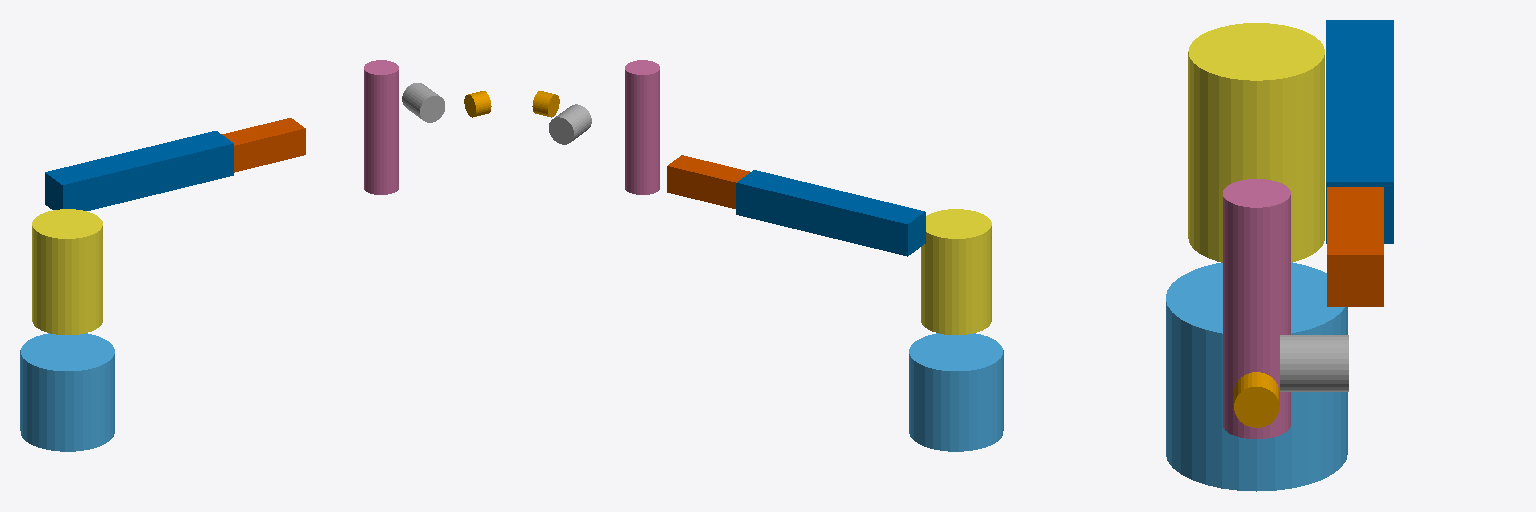
The robot description file, URDF, robot "kr6_r700_2":
<robot name="kr6_r700_2">
  
  <link name="base" />
  <link name="base_link">
    <collision>
      <geometry>
        <cylinder length="0.15" radius="0.08"/>
      </geometry>
      <origin rpy="0.0 -0.0 0.0" xyz="0.0 0.0 0.075" />
    </collision>
    <inertial>
      <inertia ixx="0.16209200415615" ixy="0.0" ixz="0.0" iyy="0.10881181598555635" iyz="0.0" izz="0.18461591505869543" />
      <mass value="1.6916E1" />
      <origin rpy="1.6165592773339865 -1.221289277333065 3.10031147437779" xyz="-0.03713348309292976 2.6602033577676952E-5 0.10863850792149446" />
    </inertial>
    <visual>
      <geometry>
        <cylinder length="0.15" radius="0.08"/>
      </geometry>
      <origin rpy="0.0 -0.0 0.0" xyz="0.0 0.0 0.075" />
    </visual>
  </link>
  <link name="flange" />
  <link name="link_1">
    <collision>
      <geometry>
        <cylinder length="0.18" radius="0.06"/>
      </geometry>
      <origin rpy="0 0 0" xyz="0.0 0.0 -0.09" />
    </collision>
    <inertial>
      <inertia ixx="0.07406183855390856" ixy="0.0" ixz="0.0" iyy="0.0890478351825312" iyz="0.0" izz="0.11039570662759428" />
      <mass value="8.416E0" />
      <origin rpy="1.304519343134156 -0.9428616016893944 -1.4226510948637578" xyz="0.00641040874524715 -0.016268053707224336 -0.1065889377376426" />
    </inertial>
    <visual>
      <geometry>
        <cylinder length="0.18" radius="0.06"/>
      </geometry>
      <origin rpy="0 0 0" xyz="0.0 0.0 -0.09" />
    </visual>
  </link>
  <link name="link_2">
    <collision>
      <geometry>
        <box size="0.335 0.06 0.06"/>
      </geometry>
      <origin rpy="0 0 0" xyz="0.1675 0.0 0.0" />
    </collision>
    <inertial>
      <inertia ixx="0.2791393962851823" ixy="0.0" ixz="0.0" iyy="0.0812068241212874" iyz="0.0" izz="0.3188594096256082" />
      <mass value="1.55659E1" />
      <origin rpy="-1.3903732489969955 -1.5149954424356888 -0.19980852830399726" xyz="0.0968897140544395 -0.004085391785890956 -0.07157586711979391" />
    </inertial>
    <visual>
      <geometry>
        <box size="0.335 0.06 0.06"/>
      </geometry>
      <origin rpy="0 0 0" xyz="0.1675 0.0 0.0" />
    </visual>
  </link>
  <link name="link_3">
    <collision>
      <geometry>
        <box size="0.141 0.05 0.05"/>
      </geometry>
      <origin rpy="0 0 0" xyz="0.07 0.0 0.0" />
    </collision>
    <inertial>
      <inertia ixx="0.016743444555446366" ixy="0.0" ixz="0.0" iyy="0.02548253701645681" iyz="0.0" izz="0.02822390996140249" />
      <mass value="5.303E0" />
      <origin rpy="2.358120324062734 -0.2189419917733543 -3.0042851780780877" xyz="0.022228738449934005 -0.011136149349424855 -0.06927623986422782" />
    </inertial>
    <visual>
      <geometry>
        <box size="0.141 0.05 0.05"/>
      </geometry>
      <origin rpy="0 0 0" xyz="0.07 0.0 0.0" />
    </visual>
  </link>
  <link name="link_4">
    <collision>
      <geometry>
        <cylinder length="0.224" radius="0.03"/>
      </geometry>
      <origin rpy="0 1.5707963 0" xyz="0.0 0.0 -0.112" />
    </collision>
    <inertial>
      <inertia ixx="0.01053127278723183" ixy="0.0" ixz="0.0" iyy="0.03425565311920861" iyz="0.0" izz="0.03735903294944075" />
      <mass value="4.6129999999999995E0" />
      <origin rpy="-2.0540104905408416 -1.5266176566842766 2.01813464445371" xyz="1.0969000650336042E-4 0.010267591588987646 -0.09163862995881207" />
    </inertial>
    <visual>
      <geometry>
        <cylinder length="0.224" radius="0.03"/>
      </geometry>
      <origin rpy="0 1.5707963 0" xyz="0.0 0.0 -0.112" />
    </visual>
  </link>
  <link name="link_5">
    <collision>
      <geometry>
        <cylinder length="0.06" radius="0.025"/>
      </geometry>
      <origin rpy="0 0 0" xyz="0.0 0.0 0.0" />
    </collision>
    <inertial>
      <inertia ixx="0.0017317756133102902" ixy="0.0" ixz="0.0" iyy="0.0022195008054406813" iyz="0.0" izz="0.002467090055442976" />
      <mass value="1.6128E0" />
      <origin rpy="1.567898714902773 -0.8611716764868312 -3.100280255900494" xyz="0.009320696924603175 7.83482142857143E-4 -0.026462549603174602" />
    </inertial>
    <visual>
      <geometry>
        <cylinder length="0.06" radius="0.025"/>
      </geometry>
      <origin rpy="0 0 0" xyz="0.0 0.0 0.0" />
    </visual>
  </link>
  <link name="link_6">
    <collision>
      <geometry>
        <cylinder length="0.03" radius="0.02"/>
      </geometry>
      <origin rpy="0 0 0" xyz="0.0 0.0 -0.015" />
    </collision>
    <inertial>
      <inertia ixx="1.83698267603013E-4" ixy="0.0" ixz="0.0" iyy="1.8213621766783165E-4" iyz="0.0" izz="2.9589000000000004E-4" />
      <mass value="7.34E-1" />
      <origin rpy="0.0 -0.0 1.2234271886965395" xyz="0.0 0.0 -0.011764604904632152" />
    </inertial>
    <visual>
      <geometry>
        <cylinder length="0.03" radius="0.02"/>
      </geometry>
      <origin rpy="0 0 0" xyz="0.0 0.0 -0.015" />
    </visual>
  </link>
  <link name="tool0" />
  <link name="world" />
  <joint name="base_link-base" type="fixed">
    <child link="base" />
    <parent link="base_link" />
  <origin xyz="0 0 0" rpy="0 0 0" /></joint>
  <joint name="joint_1" type="revolute">
    <axis xyz="0.0 0.0 1.0" />
    <child link="link_1" />
    <limit effort="1.86E2" lower="-2.967059725E0" upper="2.967059725E0" velocity="6.2831853071795862E0" />
    <origin rpy="3.141592653589793 -0.0 0.0" xyz="0.0 0.0 0.20800000000000002" />
    <parent link="base_link" />
  </joint>
  <joint name="joint_2" type="revolute">
    <axis xyz="0.0 0.0 1.0" />
    <child link="link_2" />
    <limit effort="1.6893729997505432E2" lower="-3.316125575E0" upper="7.853981625E-1" velocity="5.2359877559829888E0" />
    <origin rpy="1.5707963267948966 -0.0 0.0" xyz="0.025 -0.0907 -0.192" />
    <parent link="link_1" />
  </joint>
  <joint name="joint_3" type="revolute">
    <axis xyz="0.0 0.0 1.0" />
    <child link="link_3" />
    <limit effort="8.1493186258254326E1" lower="-2.0943951E0" upper="2.72271363E0" velocity="6.2831853071795862E0" />
    <origin rpy="0.0 -0.0 0.0" xyz="0.335 0.0 -0.004200000000000001" />
    <parent link="link_2" />
  </joint>
  <joint name="joint_4" type="revolute">
    <axis xyz="0.0 0.0 1.0" />
    <child link="link_4" />
    <limit effort="4.8879867848304357E1" lower="-3.2288591125E0" upper="3.2288591125E0" velocity="7.8539816339744828E0" />
    <origin rpy="1.5707963267948966 -0.0 -1.5707963267948966" xyz="0.14100000000000001 -0.025 -0.08650000000000001" />
    <parent link="link_3" />
  </joint>
  <joint name="joint_5" type="revolute">
    <axis xyz="0.0 0.0 1.0" />
    <child link="link_5" />
    <limit effort="4.0135638235238289E1" lower="-2.0943951E0" upper="2.0943951E0" velocity="7.8539816339744828E0" />
    <origin rpy="0.0 1.5707963267948966 1.5707963267948966" xyz="0.0 0.0505 -0.224" />
    <parent link="link_4" />
  </joint>
  <joint name="joint_6" type="revolute">
    <axis xyz="0.0 0.0 1.0" />
    <child link="link_6" />
    <limit effort="2.7358196129032258E1" lower="-6.108652375E0" upper="6.108652375E0" velocity="9.42477796076938E0" />
    <origin rpy="1.5707963267948966 -0.0 -1.5707963267948966" xyz="0.0615 0.0 -0.0505" />
    <parent link="link_5" />
  </joint>
  <joint name="link6-flange" type="fixed">
    <child link="flange" />
    <origin rpy="0.0 1.5707963267948966 0.0" xyz="0.0 0.0 -0.0285" />
    <parent link="link_6" />
  </joint>
  <joint name="link6-tool0" type="fixed">
    <child link="tool0" />
    <origin rpy="3.141592653589793 1.2246467991473532E-16 3.141592653589793" xyz="0.0 0.0 -0.0285" />
    <parent link="link_6" />
  </joint>
  <joint name="world-base_link" type="fixed">
    <child link="base_link" />
    <parent link="world" />
    <origin rpy="0 0 0" xyz="0 0 0" />
  </joint>
</robot>

--- Render facts (derived) ---
3 views of the same robot in one strip: view 1: azimuth 30°, elevation 25°; view 2: azimuth 150°, elevation 25°; view 3: azimuth 270°, elevation 25° (orthographic).
Robot: kr6_r700_2 — 11 links, 10 joints (6 revolute, 4 fixed); root link world; default pose: all joints at 0.
Visible links, largest first — view 1: base_link, link_2, link_1, link_4, link_3, link_5, link_6; view 2: base_link, link_2, link_1, link_4, link_3, link_5, link_6; view 3: link_1, base_link, link_4, link_2, link_3, link_5, link_6.
Boxes of the visible links, bbox=[...] form: base_link: bbox=[20, 333, 114, 451]; link_2: bbox=[45, 131, 233, 210]; link_1: bbox=[32, 209, 102, 334]; link_4: bbox=[364, 60, 398, 194]; link_3: bbox=[222, 118, 305, 172]; link_5: bbox=[402, 83, 444, 122]; link_6: bbox=[464, 91, 491, 117]; base_link: bbox=[909, 333, 1003, 451]; link_2: bbox=[736, 170, 925, 256]; link_1: bbox=[921, 209, 991, 334]; link_4: bbox=[625, 60, 659, 194]; link_3: bbox=[667, 155, 749, 208]; link_5: bbox=[549, 104, 591, 144]; link_6: bbox=[532, 91, 559, 117]; link_1: bbox=[1188, 23, 1324, 262]; base_link: bbox=[1166, 262, 1347, 491]; link_4: bbox=[1223, 179, 1290, 438]; link_2: bbox=[1326, 20, 1393, 243]; link_3: bbox=[1327, 187, 1383, 306]; link_5: bbox=[1280, 335, 1348, 391]; link_6: bbox=[1234, 372, 1279, 427].
Bounding box of the posed robot: 0.8965 × 0.2007 × 0.537 m (x, y, z).
Geometry: primitives only (box / cylinder / sphere), no mesh files.